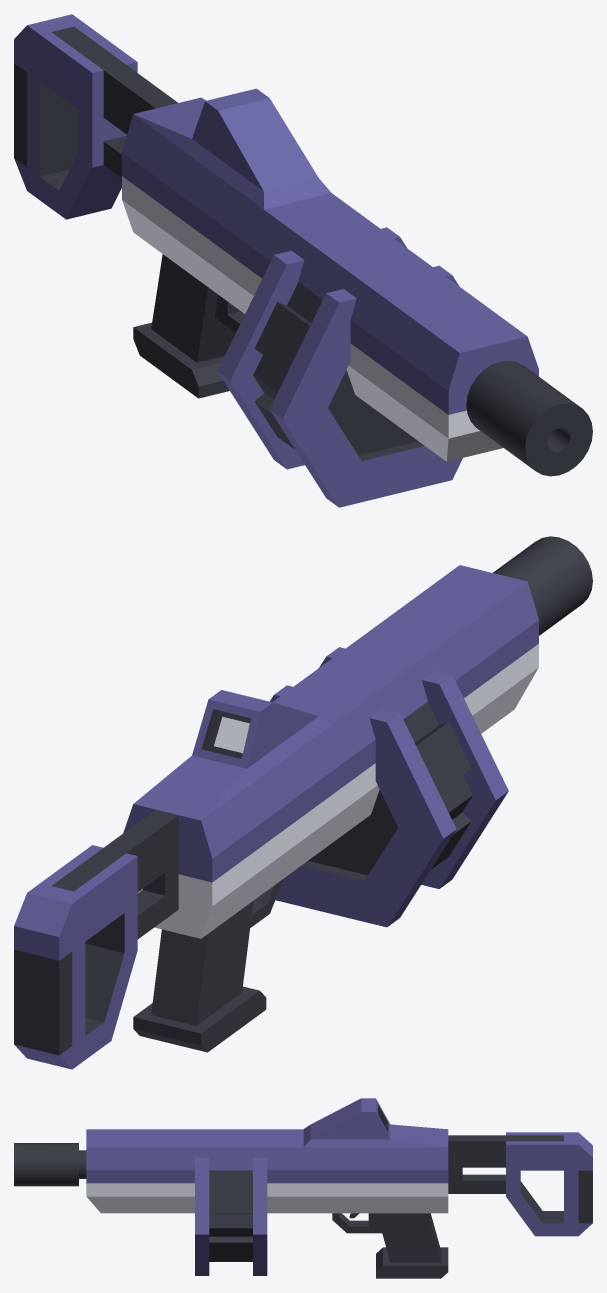
The model's file is rifle3.fbx.
3 views of the same model, one above another, from view 1: azimuth 30°, elevation 25°; view 2: azimuth 150°, elevation 25°; view 3: azimuth 270°, elevation 25° (orthographic). The views are drawn at different scales.
Parts seen in each view (by area): view 1: mergedBlocks; view 2: mergedBlocks; view 3: mergedBlocks.
Part boxes in pixels (x1,y1,x2,y2): mergedBlocks: (14,14,592,507); mergedBlocks: (14,536,592,1069); mergedBlocks: (14,1098,592,1278).
Bounding box in the file's own units: 10 × 12.5 × 40.
